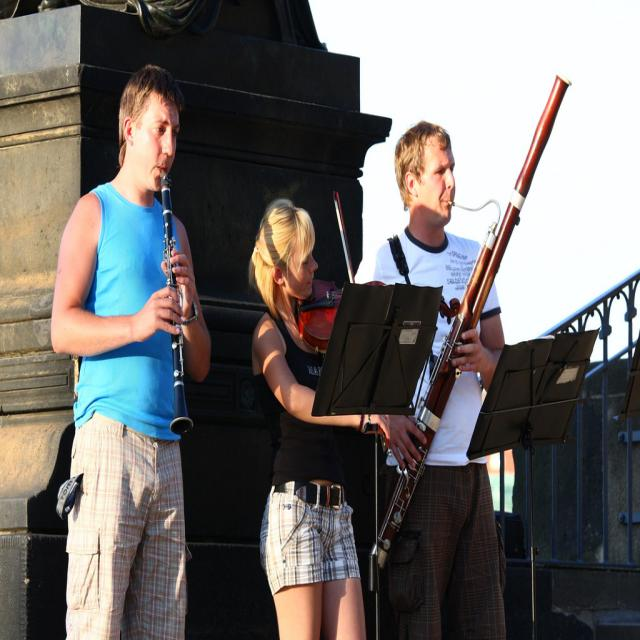clarinet: (159, 168, 194, 440)
violin: (296, 273, 459, 365)
